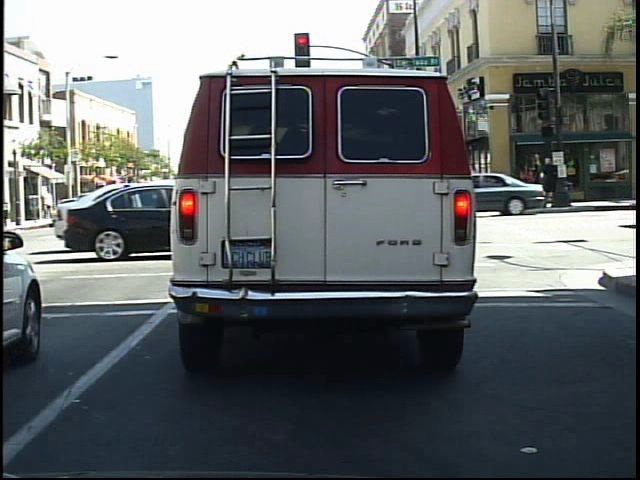person: (535, 154, 562, 210), (529, 149, 550, 210), (516, 157, 539, 205), (542, 158, 562, 209)
